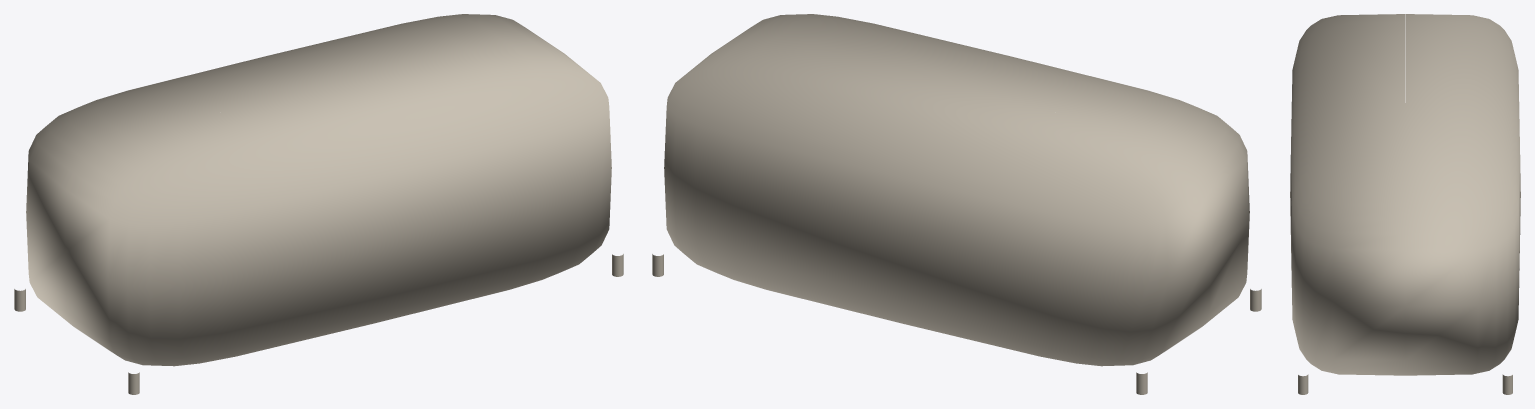
The model's file is ikea-landskrona-40530978-g2-proxy.glb.
3 views of the same model, side by side, from view 1: azimuth 30°, elevation 25°; view 2: azimuth 150°, elevation 25°; view 3: azimuth 270°, elevation 25° (orthographic). The views are drawn at different scales.
Parts seen in each view (by area): view 1: proxy_body; view 2: proxy_body; view 3: proxy_body.
Boxes of the visible parts, x1=… form: proxy_body: x1=26, y1=14, x2=611, y2=366; proxy_body: x1=664, y1=14, x2=1249, y2=366; proxy_body: x1=1290, y1=14, x2=1520, y2=375.
Size of the model in its own units: 2.04 by 0.78 by 0.89.
